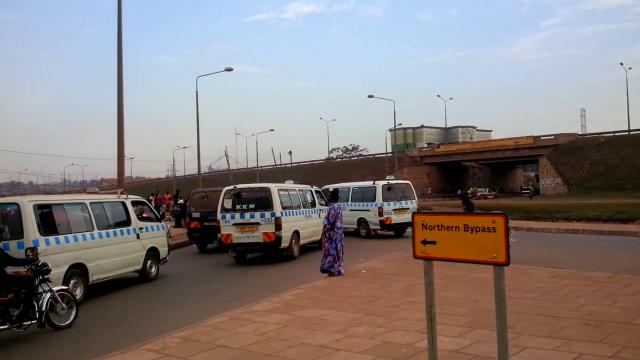car: (474, 186, 500, 201)
motorcycle: (0, 247, 78, 338)
van: (51, 188, 171, 297), (215, 180, 314, 257), (344, 175, 417, 236), (184, 187, 226, 251)
